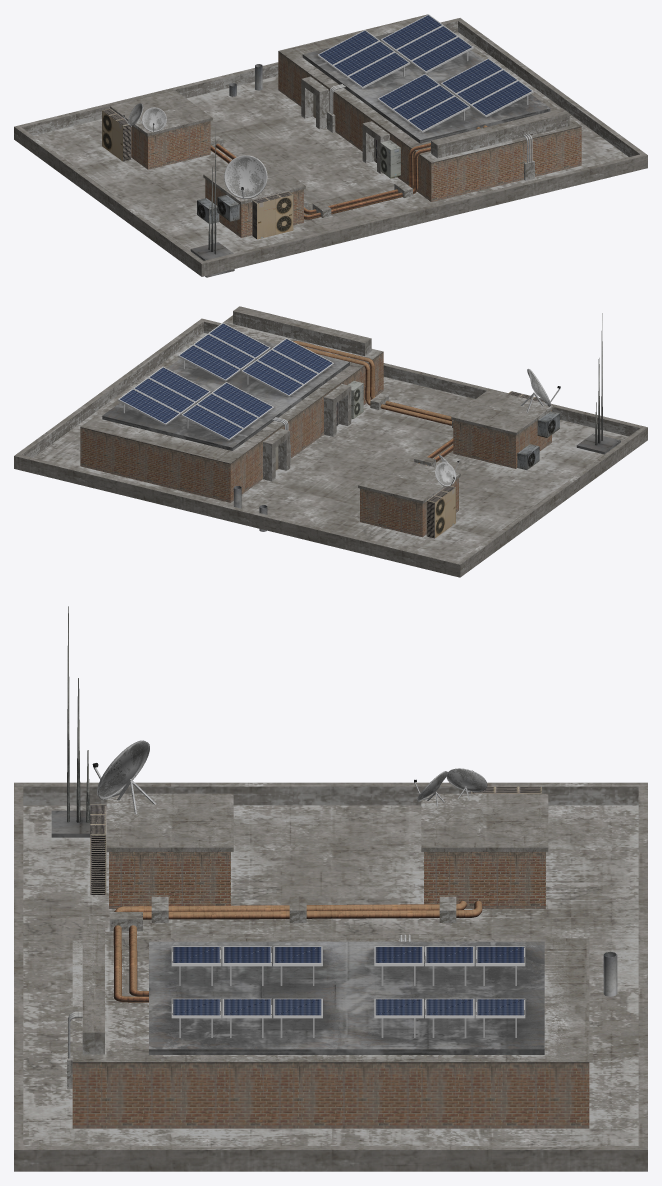
The model's file is roof05.fbx.
3 renders of one model, top to bottom at view 1: azimuth 30°, elevation 25°; view 2: azimuth 150°, elevation 25°; view 3: azimuth 270°, elevation 25°, orthographic. The views are drawn at different scales.
Visible parts, largest first — view 1: Object29, O, Box140, Box139, Box1946, Box142, Box1468, polymsh13, Sphere57, Box979, Rectangle74, Rectangle5202 (+19 smaller); view 2: Object29, O, Box140, Box1468, Box139, Box1946, Box142, polymsh13, Rectangle74, Rectangle5202, Plane62, Plane63 (+17 smaller); view 3: Object29, O, Box140, Box1946, Box139, Box1468, polymsh13, Box142, Sphere57, Object71, Box1473, Plane57 (+5 smaller).
Boxes of the visible parts, <box> form: Object29: <box>14,18,647,276</box>; O: <box>278,51,581,202</box>; Box140: <box>302,32,550,143</box>; Box139: <box>110,90,212,169</box>; Box1946: <box>279,14,581,162</box>; Box142: <box>431,108,569,158</box>; Box1468: <box>203,158,305,237</box>; polymsh13: <box>210,125,487,219</box>; Sphere57: <box>224,155,267,198</box>; Box979: <box>257,195,293,239</box>; Rectangle74: <box>301,76,328,129</box>; Rectangle5202: <box>362,121,389,173</box>; Object29: <box>14,318,647,577</box>; O: <box>80,352,383,502</box>; Box140: <box>102,338,349,450</box>; Box1468: <box>451,389,554,468</box>; Box139: <box>358,458,460,537</box>; Box1946: <box>80,315,383,463</box>; Box142: <box>233,306,371,356</box>; polymsh13: <box>293,341,453,465</box>; Rectangle74: <box>263,428,290,481</box>; Rectangle5202: <box>324,384,351,436</box>; Plane62: <box>243,361,302,394</box>; Plane63: <box>183,405,242,438</box>; Object29: <box>14,782,647,1171</box>; O: <box>72,1062,589,1128</box>; Box140: <box>149,941,544,1054</box>; Box1946: <box>72,938,589,1061</box>; Box139: <box>421,793,548,908</box>; Box1468: <box>106,793,233,908</box>; polymsh13: <box>113,901,482,1002</box>; Box142: <box>82,924,104,1054</box>; Sphere57: <box>97,740,149,799</box>; Object71: <box>90,804,106,894</box>; Box1473: <box>51,810,90,837</box>; Plane57: <box>375,999,422,1015</box>.
Bounding box in the file's own units: 27.15 × 8.41 × 19.8.
